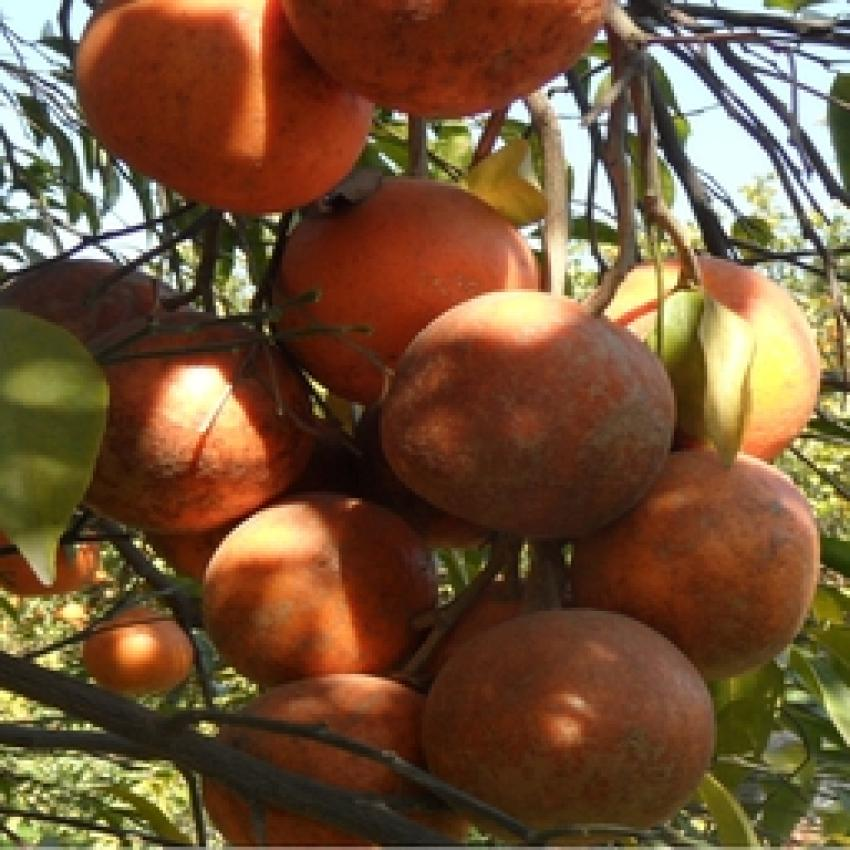Mal estado: (378, 279, 678, 539), (404, 601, 726, 838), (70, 0, 365, 229), (584, 430, 828, 682), (74, 310, 308, 536), (202, 668, 457, 846), (200, 493, 432, 686), (277, 0, 618, 127)
